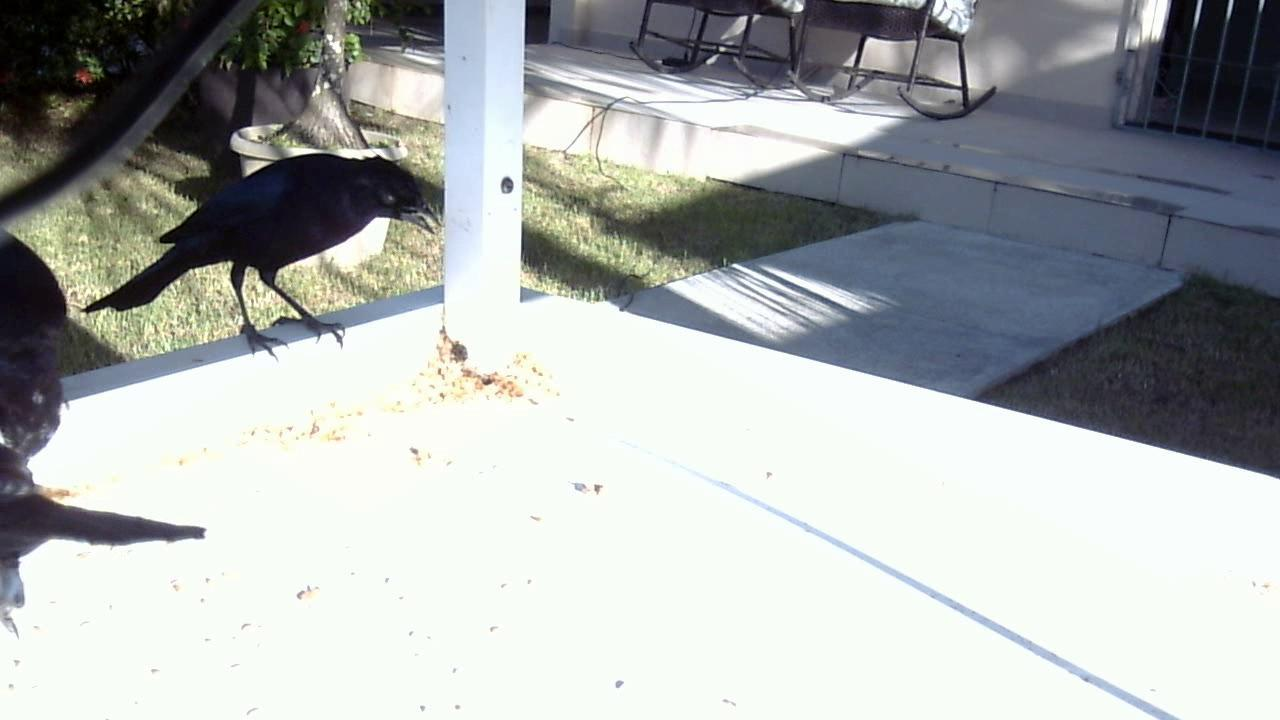chupim: (66, 124, 447, 387), (1, 218, 209, 660)
